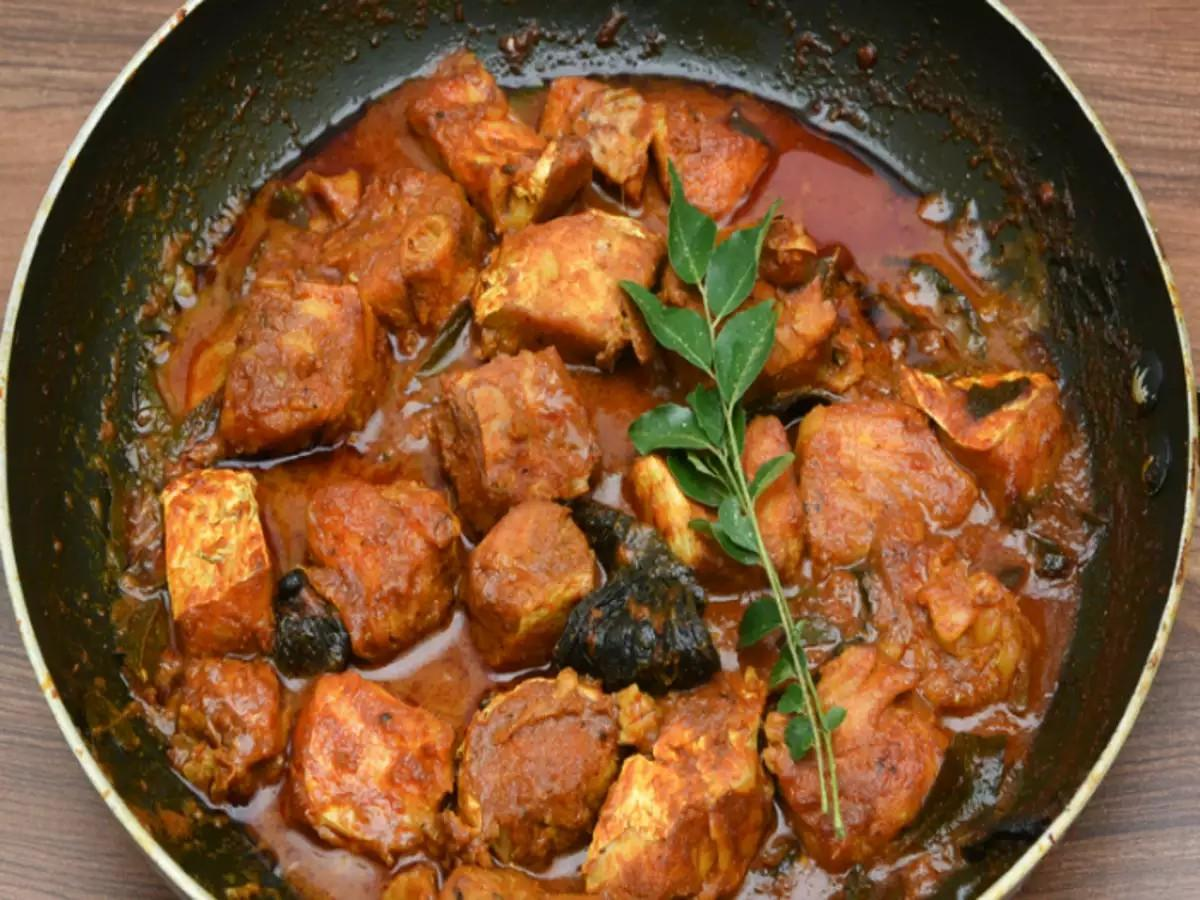FishCurry: (113, 59, 1101, 900)
